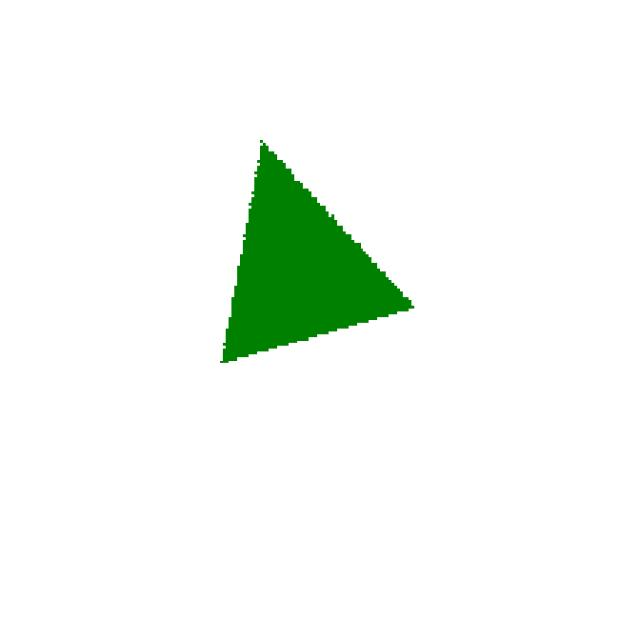Triangle: (170, 101, 436, 392)
